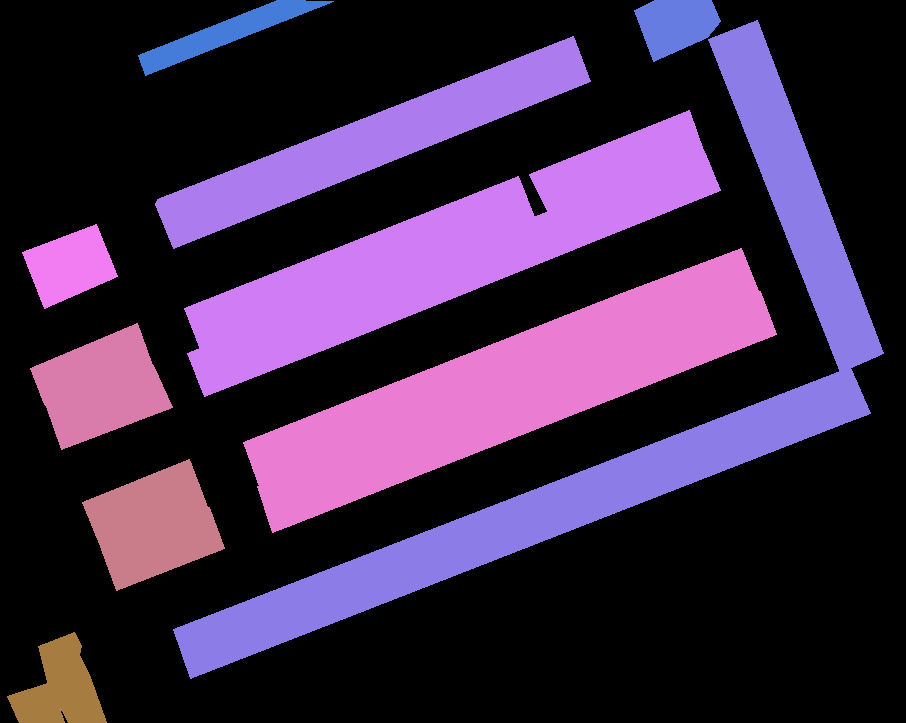parkingspot: (173, 367, 870, 678), (187, 150, 720, 396), (257, 291, 776, 532), (243, 248, 759, 489), (155, 36, 590, 248), (708, 20, 883, 372), (184, 176, 535, 349), (529, 110, 704, 212), (138, 0, 333, 75), (82, 459, 208, 551), (46, 365, 172, 449), (30, 323, 152, 407), (101, 507, 224, 590), (22, 224, 117, 308), (38, 632, 106, 722), (634, 0, 720, 61), (7, 682, 64, 723)
